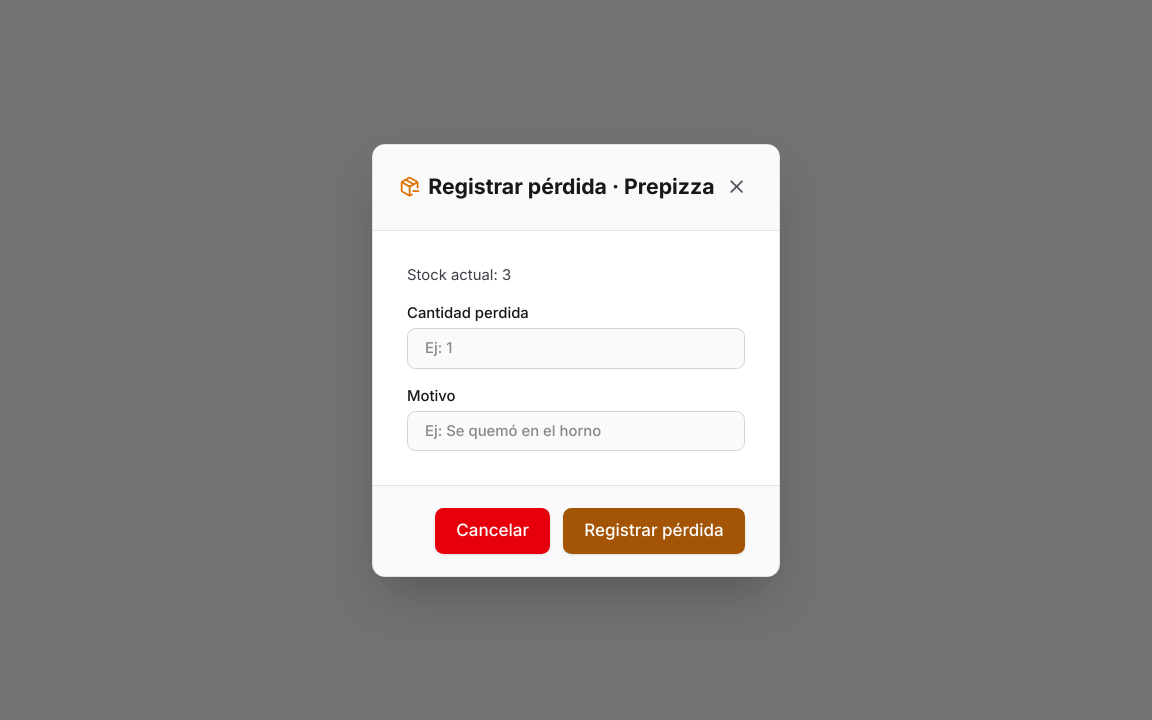
Test: merma e historial (US-4 CA-3 y CA-4) › muestra el error del servidor, por ejemplo stock insuficiente
Type "4" into the field labelled "Cantidad perdida".
click(576, 348); type("4")  # box [407, 328, 745, 369]
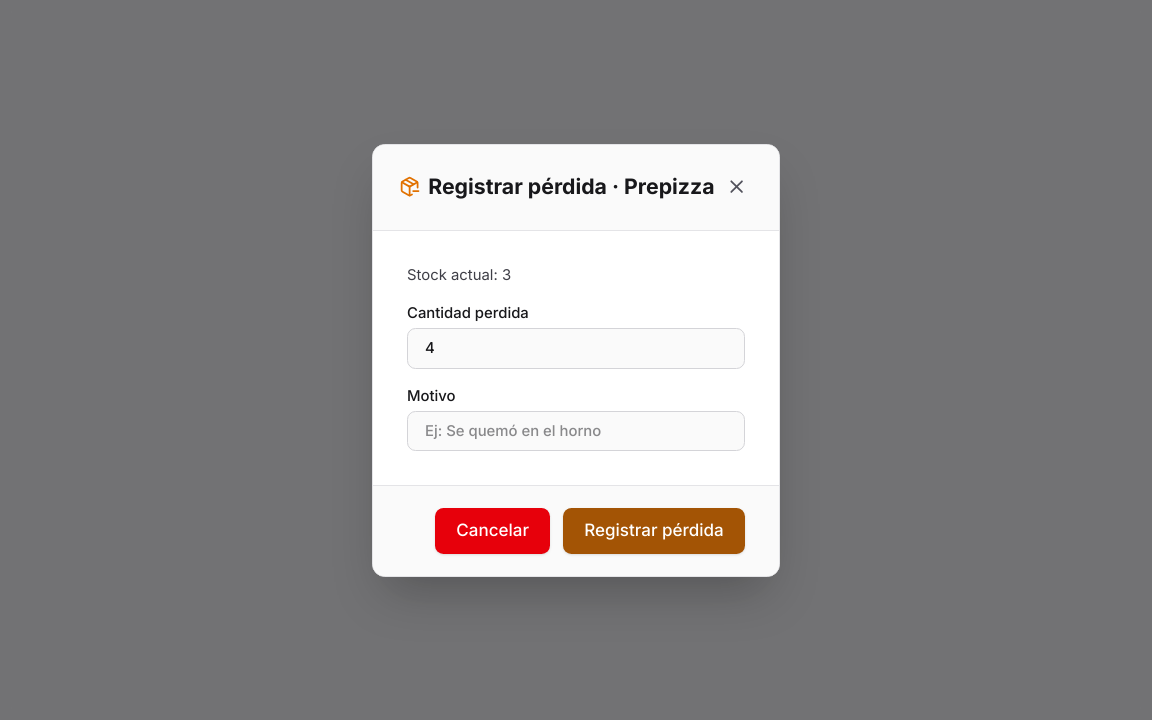
Type "x" into the field labelled "Motivo".
click(576, 431); type("x")  # box [407, 411, 745, 451]
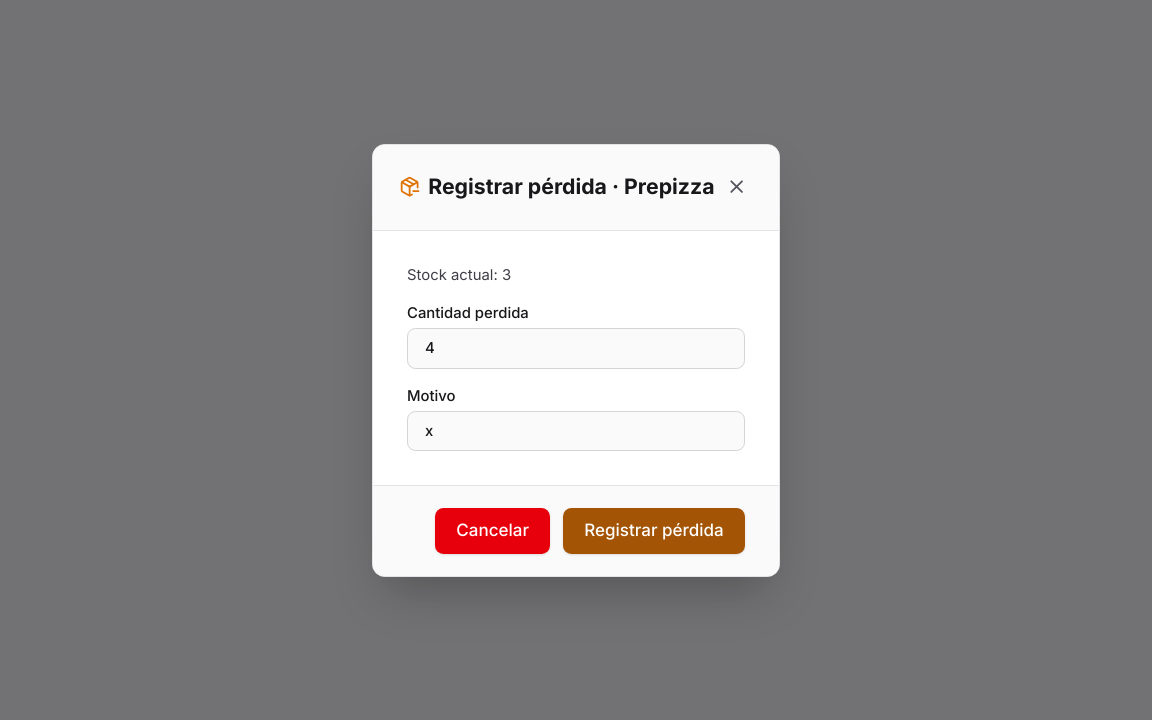
Click the button "Registrar pérdida".
click(654, 531)  # box [563, 508, 745, 554]
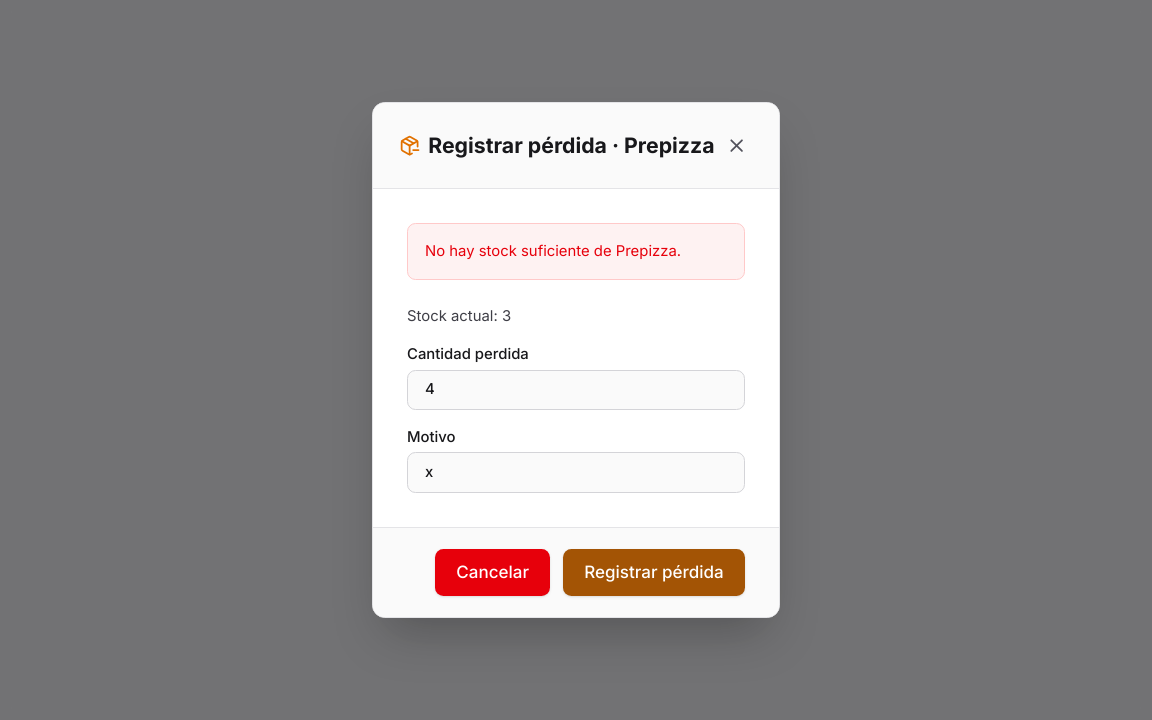
Check: the text "No hay stock suficiente de Prepizza." is shown, box [407, 223, 745, 280]
